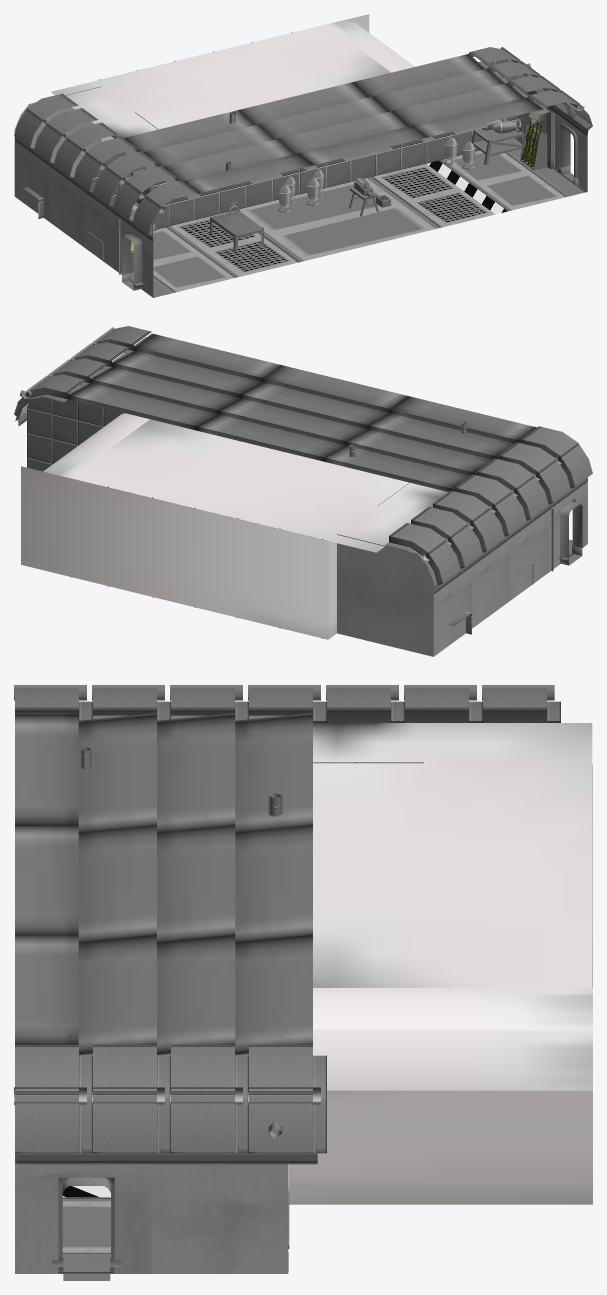
The model's file is MSH_Armory_room_L1_R3_optimized.fbx.
3 renders of one model, top to bottom at view 1: azimuth 30°, elevation 25°; view 2: azimuth 150°, elevation 25°; view 3: azimuth 270°, elevation 25°, orthographic. The views are drawn at different scales.
Visible parts, largest first — view 1: lightmap0, lightmap-1; view 2: lightmap0, lightmap-1; view 3: lightmap0, lightmap-1.
Part boxes in pixels (x1=…): lightmap0: x1=14, y1=14, x2=592, y2=297; lightmap-1: x1=121, y1=128, x2=573, y2=290; lightmap0: x1=14, y1=326, x2=592, y2=656; lightmap-1: x1=560, y1=501, x2=582, y2=565; lightmap0: x1=14, y1=685, x2=592, y2=1273; lightmap-1: x1=62, y1=1177, x2=110, y2=1280.
Size of the model in its own units: 30.98 by 6.7 by 17.49.
2 materials, 2 textured.
